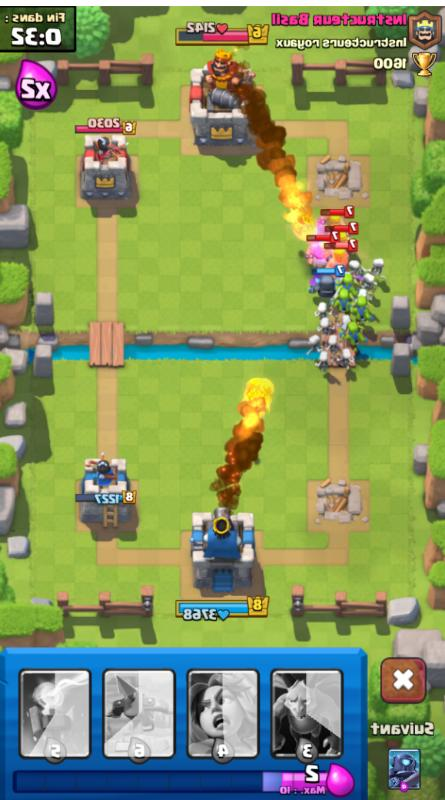gobelin: (350, 295, 374, 328), (339, 324, 365, 354), (336, 271, 357, 295), (334, 289, 354, 313)
mini_PEKKA: (309, 274, 341, 300)
squelette: (325, 335, 345, 362), (301, 334, 323, 358), (313, 351, 335, 373), (361, 272, 377, 300), (368, 257, 387, 280), (354, 287, 378, 302), (313, 301, 334, 318), (341, 347, 354, 373), (337, 313, 351, 337), (346, 259, 364, 277), (317, 316, 335, 334)
